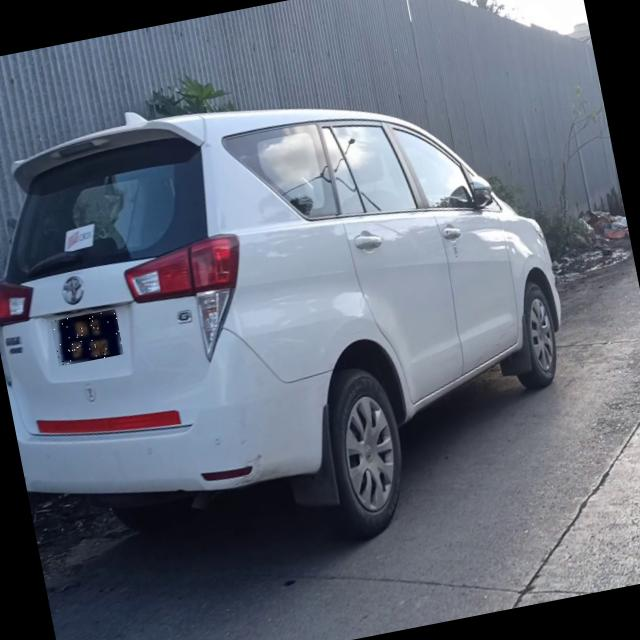Plate: (51, 311, 125, 369)
